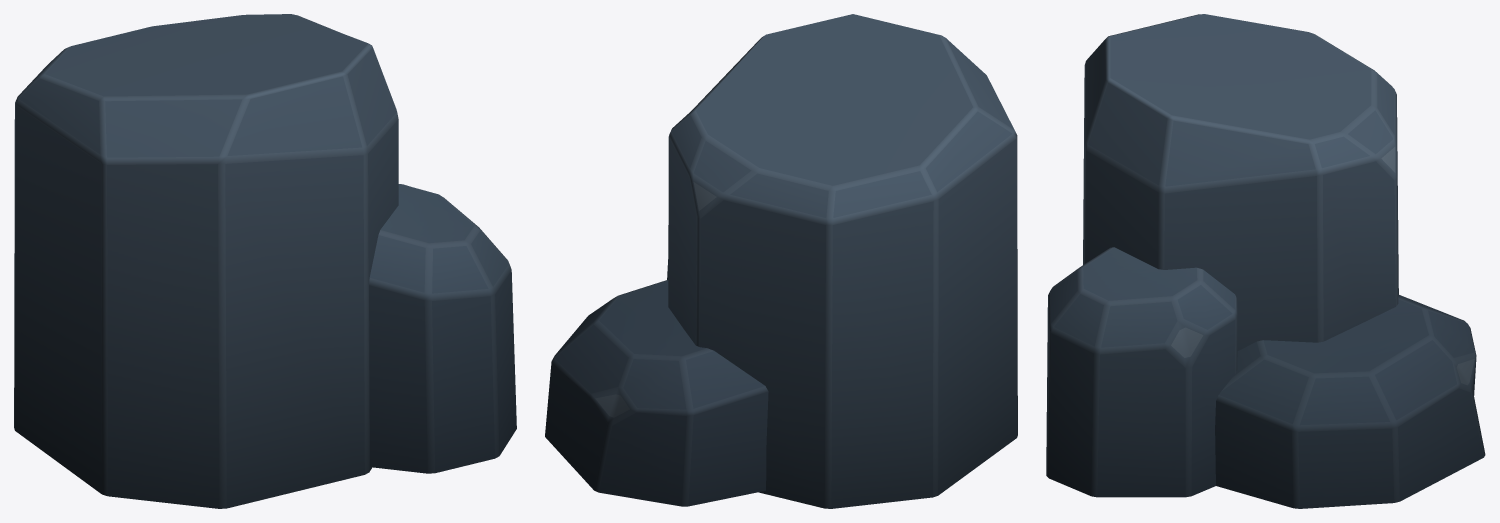
Rendered from Obstacle_Stone_01.fbx.
The picture shows the model from 3 angles, left to right: view 1: azimuth 30°, elevation 25°; view 2: azimuth 150°, elevation 25°; view 3: azimuth 270°, elevation 25°; orthographic projection. The views are drawn at different scales.
Parts seen in each view (by area): view 1: Obstacle_Stone_01; view 2: Obstacle_Stone_01; view 3: Obstacle_Stone_01.
Boxes of the visible parts, x1,y1,x2,y2 form: Obstacle_Stone_01: (14,14,516,508); Obstacle_Stone_01: (545,14,1017,508); Obstacle_Stone_01: (1046,14,1485,508).
Bounding box in the file's own units: 2.69 × 2.51 × 2.85.
